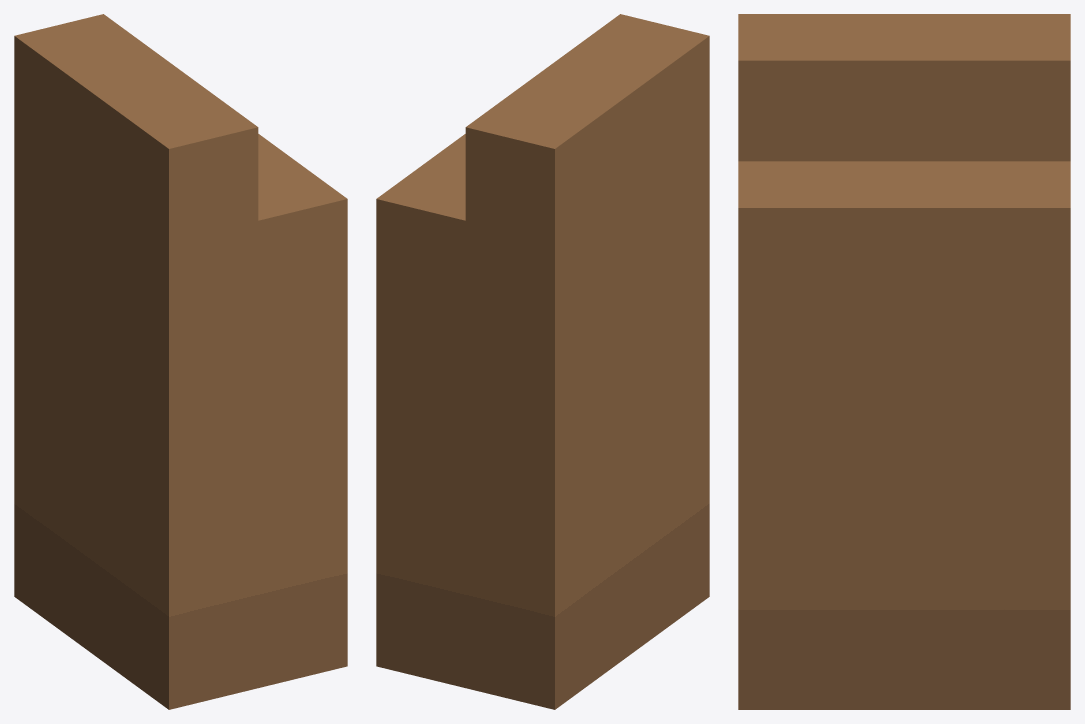
The model's file is mob_homo_sapien_arm_right.dae.
3 renders of one model, left to right at view 1: azimuth 30°, elevation 25°; view 2: azimuth 150°, elevation 25°; view 3: azimuth 270°, elevation 25°, orthographic. The views are drawn at different scales.
Parts seen in each view (by area): view 1: mob_homo_sapien_arm_right; view 2: mob_homo_sapien_arm_right; view 3: mob_homo_sapien_arm_right.
Part boxes in pixels (x1=…): mob_homo_sapien_arm_right: x1=14, y1=14, x2=347, y2=709; mob_homo_sapien_arm_right: x1=376, y1=14, x2=709, y2=709; mob_homo_sapien_arm_right: x1=738, y1=14, x2=1070, y2=709.
Size of the model in its own units: 0.2 by 0.3 by 0.6.
1 material, 1 textured.
